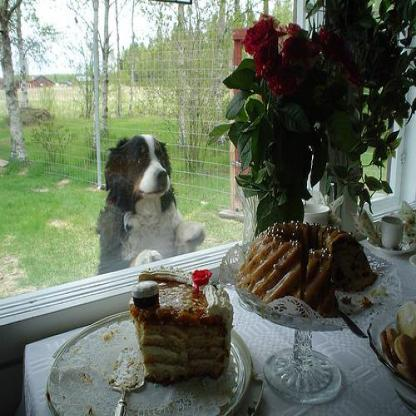Bernese_mountain_dog: (95, 131, 205, 272)
